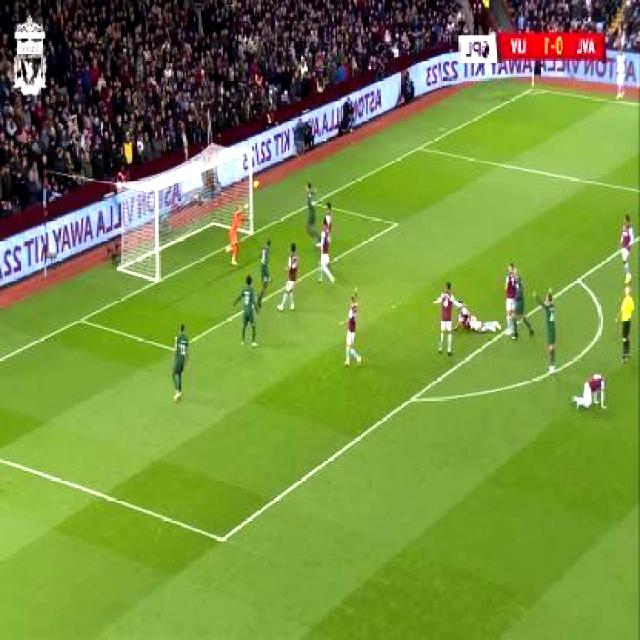bigarea_bottom_inner: (214, 524, 231, 554)
bigarea_top_outter: (416, 143, 424, 157)
bottom_arc_area_intersection: (403, 386, 422, 409)
corner: (528, 84, 542, 96)
smallarea_bottom_outter: (72, 309, 90, 331)
smallarea_top_inner: (391, 218, 400, 232)
top_arc_area_intersection: (572, 272, 585, 288)
